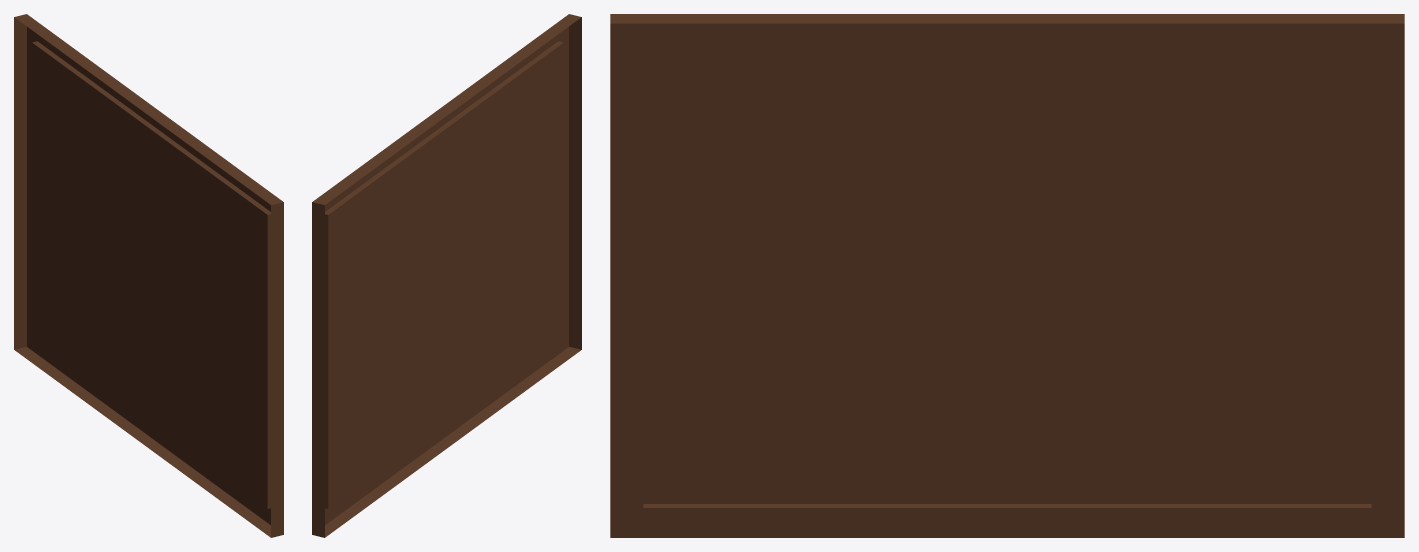
File: quadro 1.fbx
The picture shows the model from 3 angles, left to right: view 1: azimuth 30°, elevation 25°; view 2: azimuth 150°, elevation 25°; view 3: azimuth 270°, elevation 25°; orthographic projection. The views are drawn at different scales.
Visible parts, largest first — view 1: Cube; view 2: Cube; view 3: Cube.
Part boxes in pixels (bbox=[...]): Cube: bbox=[14, 14, 283, 537]; Cube: bbox=[312, 14, 581, 537]; Cube: bbox=[610, 14, 1404, 537].
Bounding box in the file's own units: 2 × 50 × 70.
